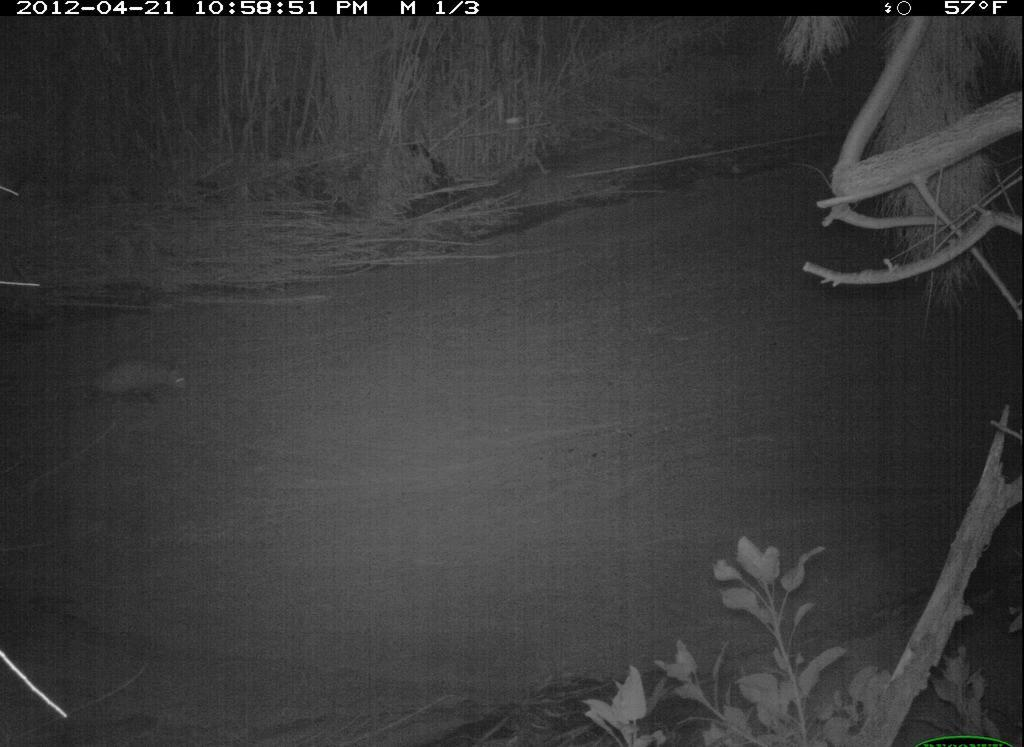opossum: (66, 341, 210, 436)
